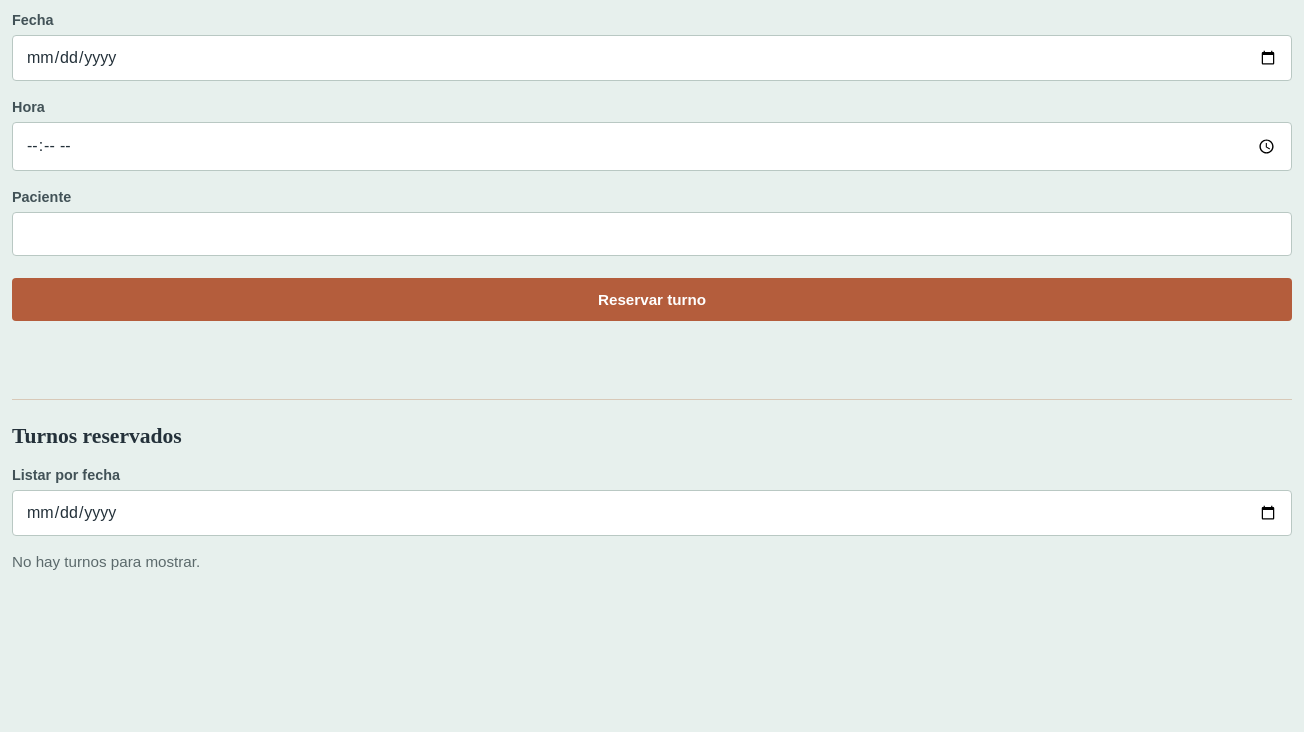
it: FormularioTurno › lista y cancela un turno desde la interfaz
Type "2026-09-01" into the date field labelled "Fecha".
click(652, 58); type("2026-09-01")  # box x1=12 y1=35 x2=1292 y2=81
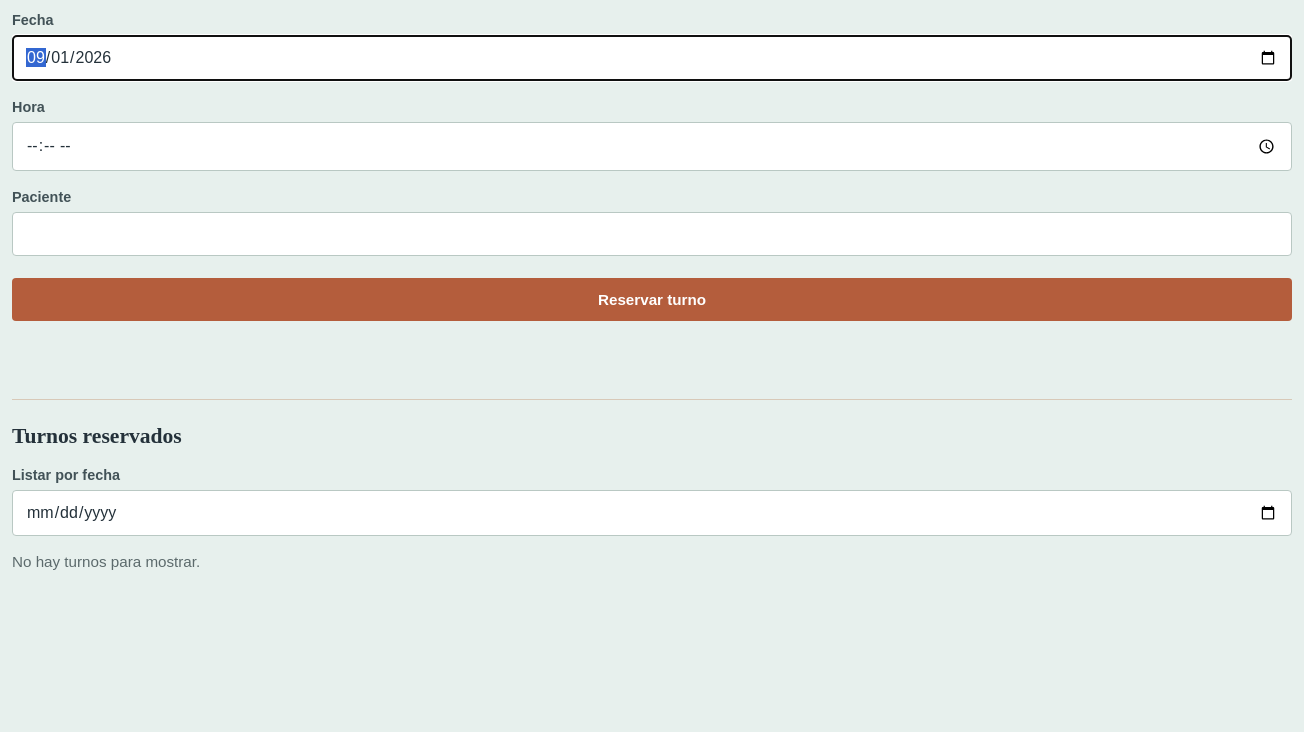
Type "10:30" into the time field labelled "Hora".
click(652, 146); type("10:30")  # box x1=12 y1=122 x2=1292 y2=171
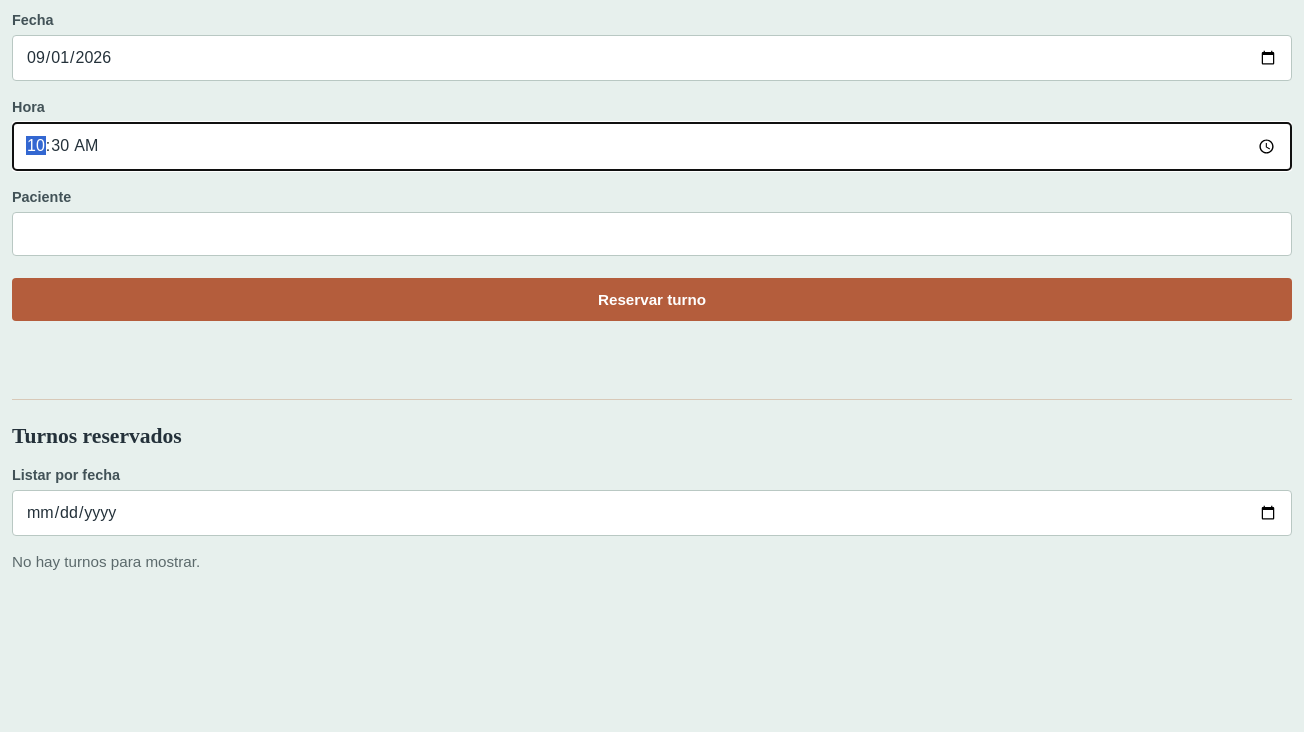
Type "Ana" into the field labelled "Paciente".
click(652, 234); type("Ana")  # box x1=12 y1=212 x2=1292 y2=256
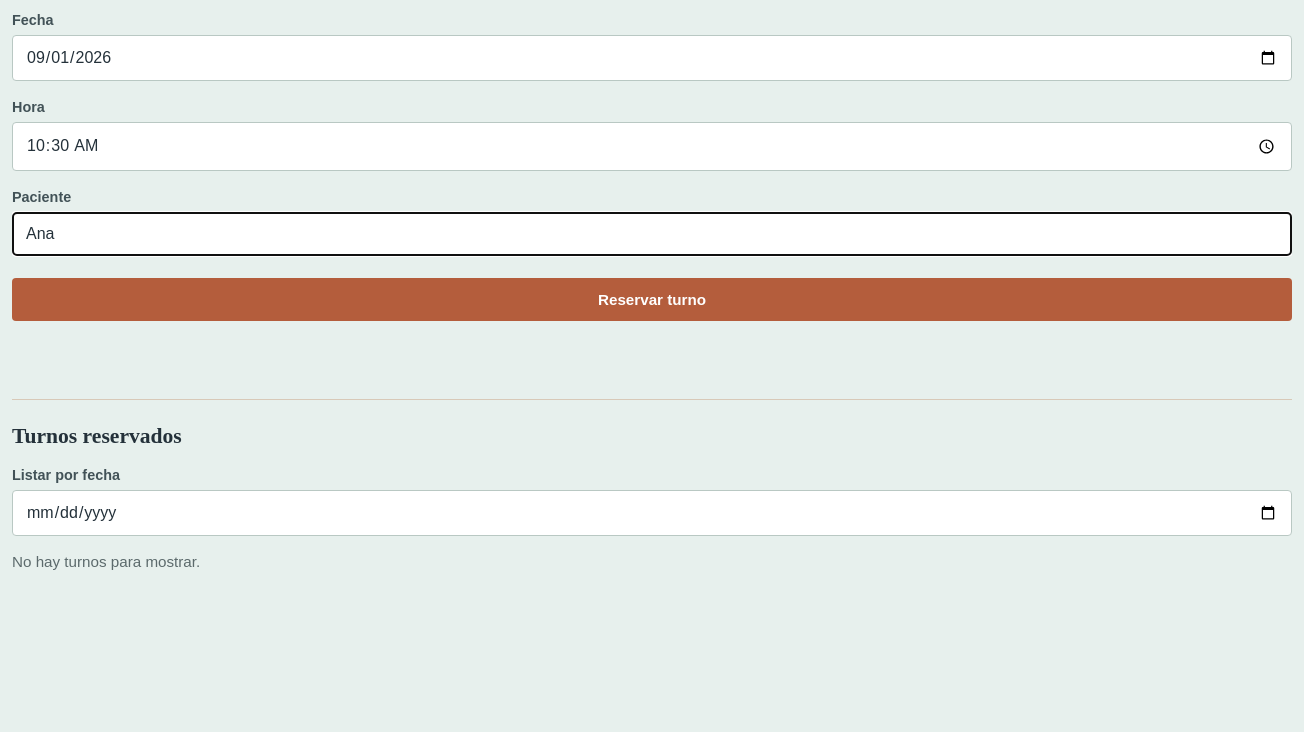
Click the button "Reservar turno".
click(652, 299)  # box x1=12 y1=278 x2=1292 y2=321
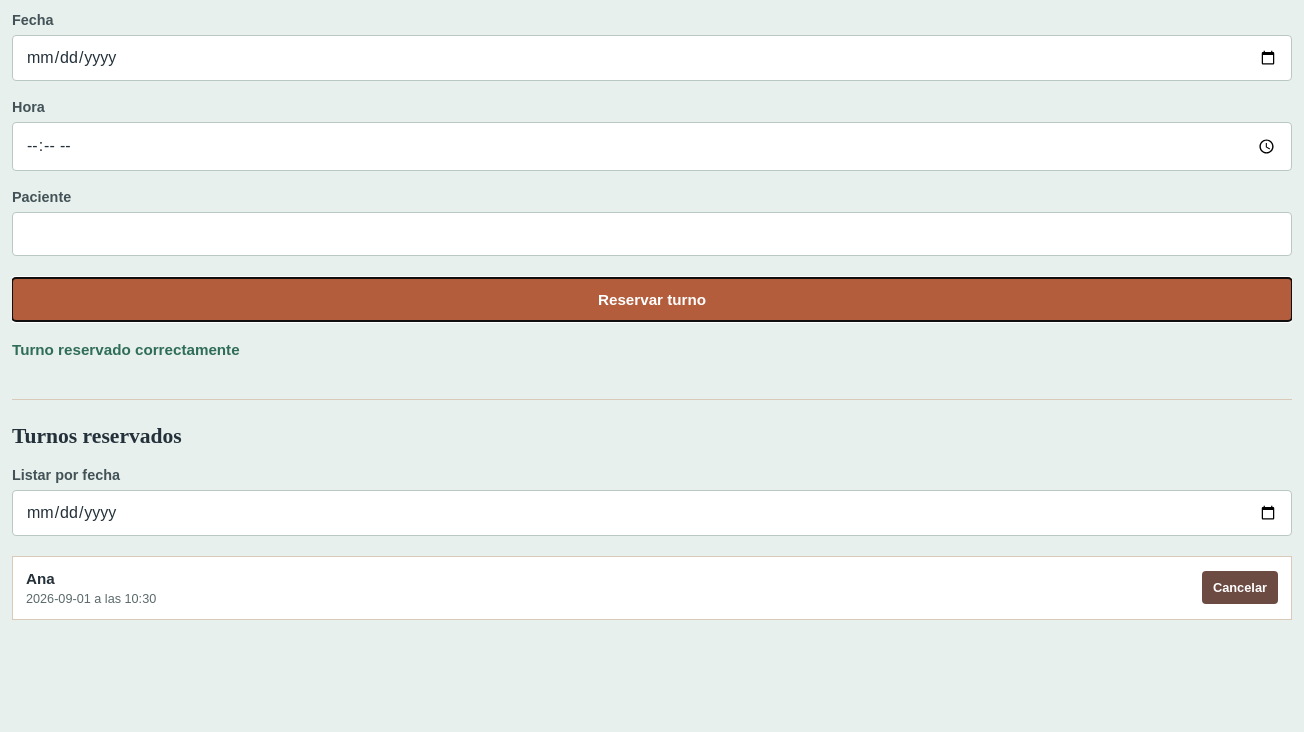
Check: the text "Ana" is shown, box x1=26 y1=570 x2=55 y2=587
Check: the text "2026-09-01 a las 10:30" is shown, box x1=26 y1=592 x2=156 y2=606
Click the button "Cancelar".
click(1240, 588)  # box x1=1202 y1=571 x2=1278 y2=604
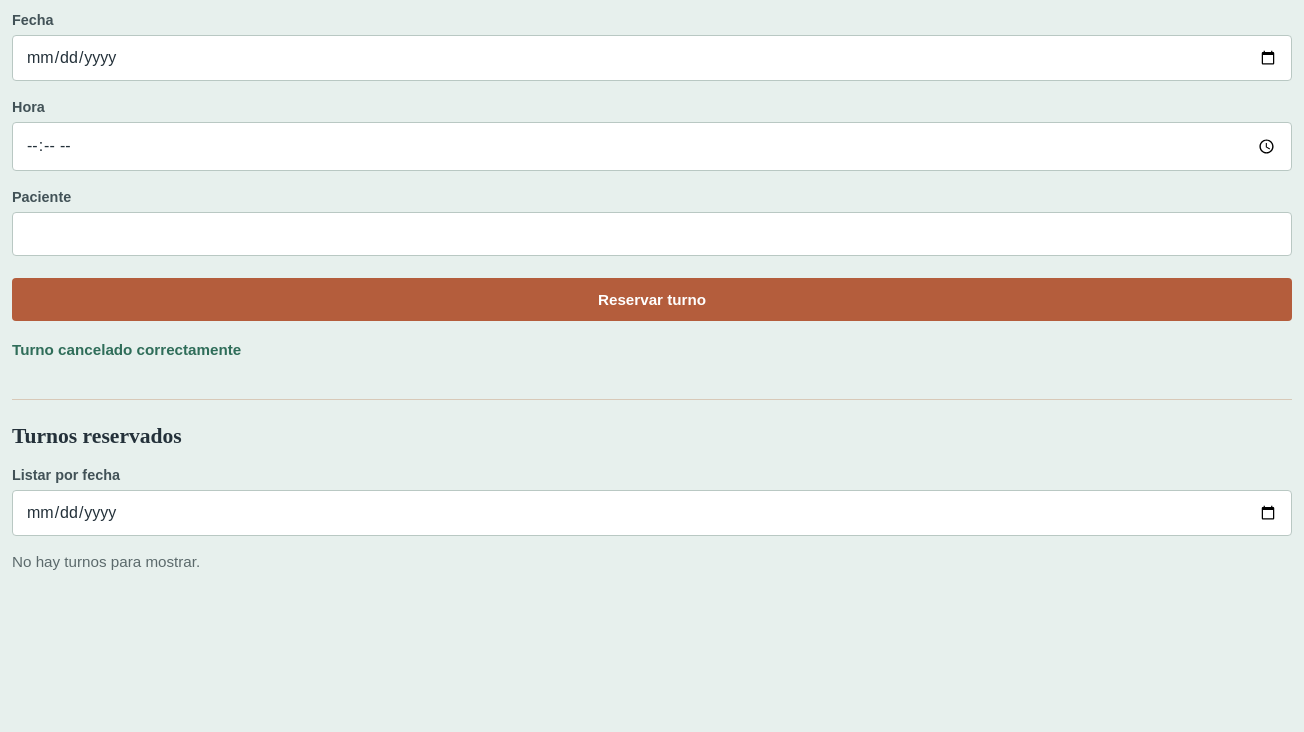
Check: the text "Ana" is gone
Check: the text "No hay turnos para mostrar." is shown, box x1=12 y1=553 x2=200 y2=570
